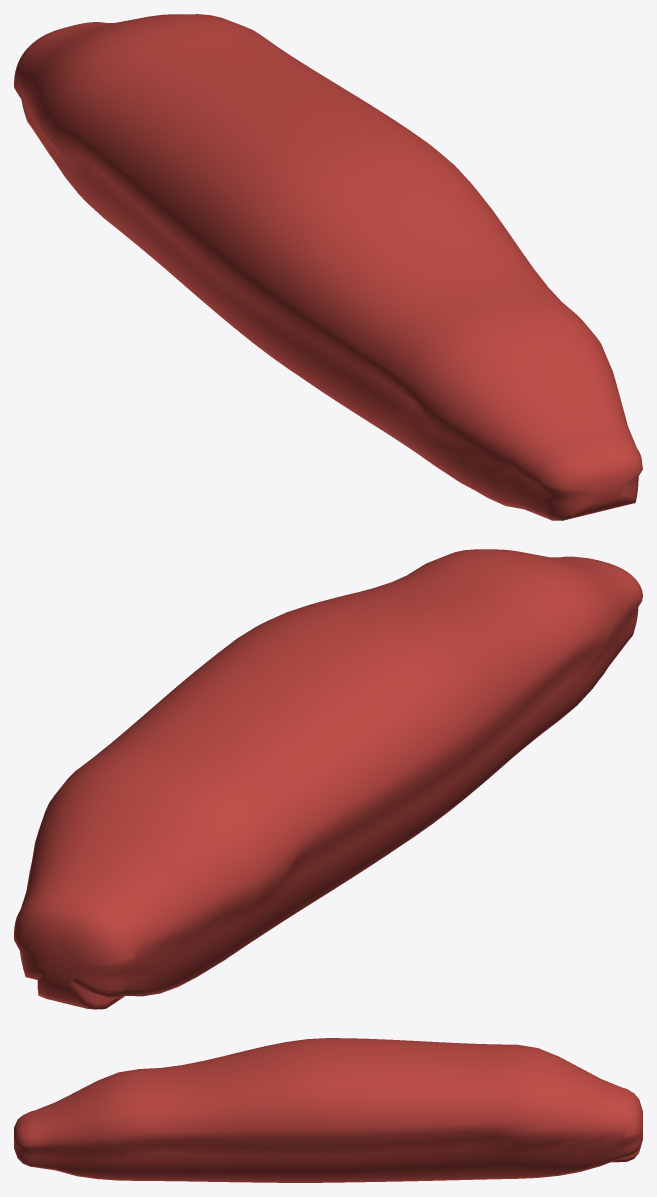
Rendered from enduro.glb.
3 renders of one model, top to bottom at view 1: azimuth 30°, elevation 25°; view 2: azimuth 150°, elevation 25°; view 3: azimuth 270°, elevation 25°, orthographic. The views are drawn at different scales.
Parts seen in each view (by area): view 1: lod0; view 2: lod0; view 3: lod0.
Boxes of the visible parts, bbox=[...] form: lod0: bbox=[14, 14, 642, 520]; lod0: bbox=[14, 549, 642, 1009]; lod0: bbox=[14, 1038, 642, 1182].
Size of what is drawn, in the model's own units: 0.2597 by 0.2081 by 1.
